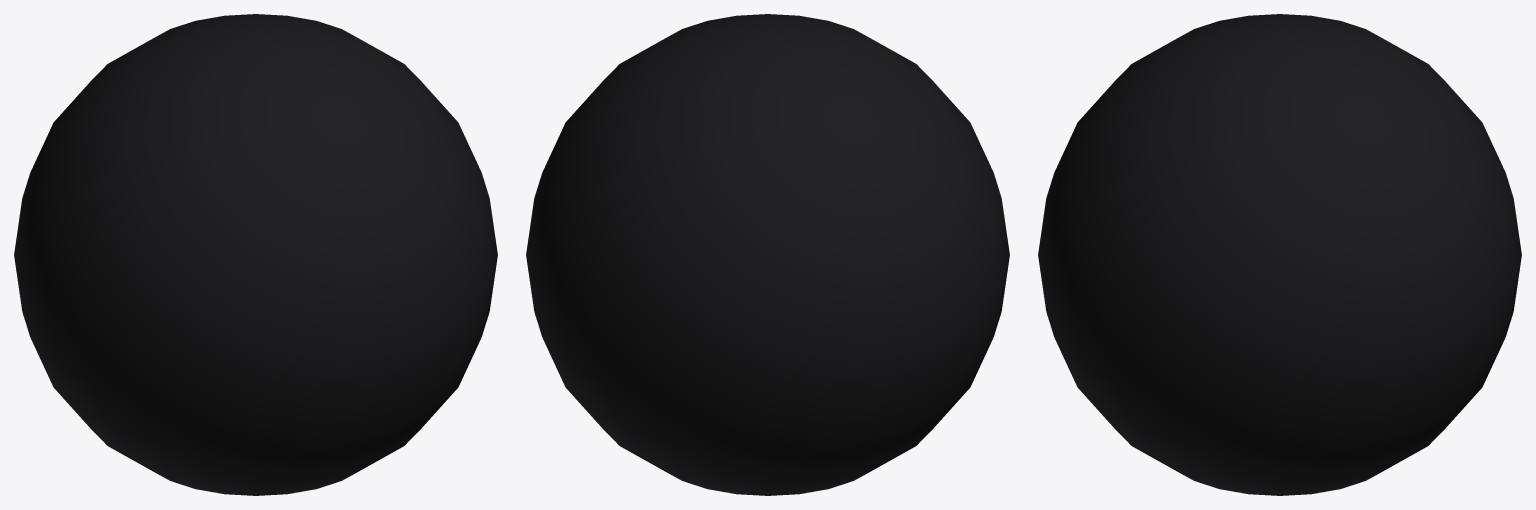
File: PlayerModel.fbx
The picture shows the model from 3 angles, left to right: view 1: azimuth 30°, elevation 25°; view 2: azimuth 150°, elevation 25°; view 3: azimuth 270°, elevation 25°; orthographic projection.
Visible parts, largest first — view 1: Sphere.002; view 2: Sphere.002; view 3: Sphere.002.
Boxes of the visible parts, bbox=[...] form: Sphere.002: bbox=[14, 14, 497, 495]; Sphere.002: bbox=[526, 14, 1009, 495]; Sphere.002: bbox=[1038, 14, 1521, 495].
Size of the model in its own units: 1.81 by 1.81 by 1.81.
1 material, 1 textured.
